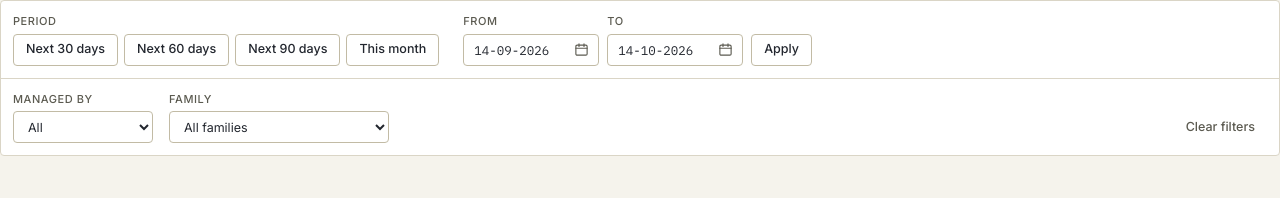
Test case: custom range validation › refuses a range that ends before it starts
Replace the text in the field labelled "From" with "30-11-2026" at (531, 50), box [463, 34, 599, 66]
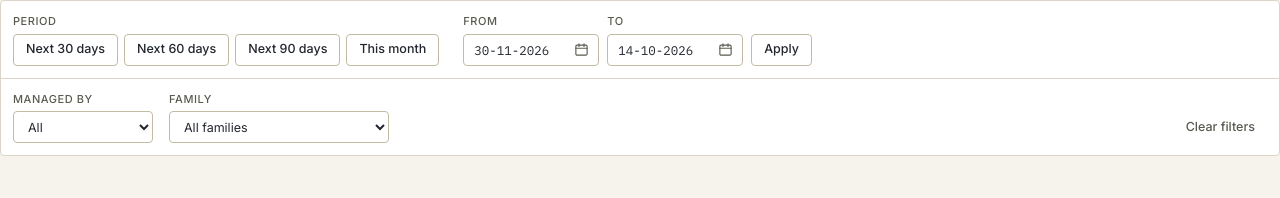
Replace the text in the field labelled "To" with "01-11-2026" at (675, 50), box [607, 34, 743, 66]
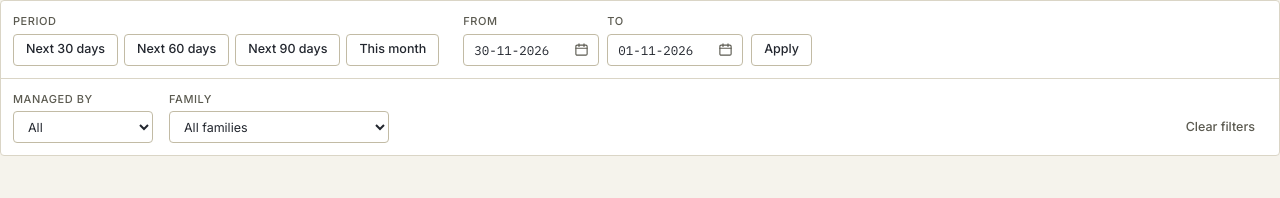
Click the button "Apply".
click(782, 50)  # box [751, 34, 812, 66]
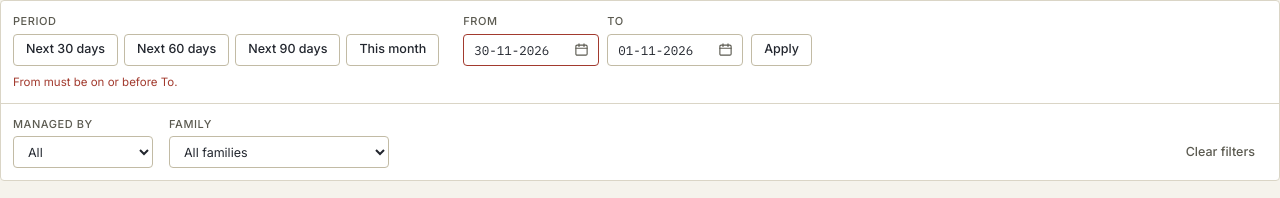
Now the message reads "From must be on or before To.", box [13, 74, 178, 88]
